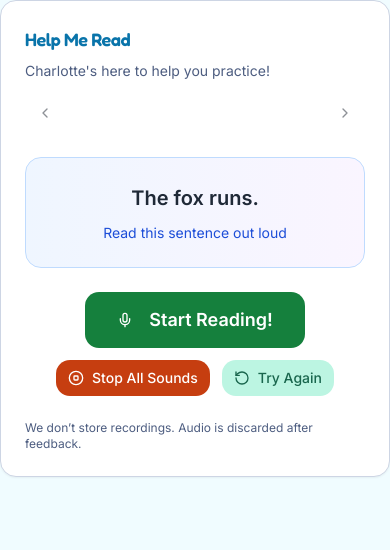
Test: read-aloud practice and the child's voice › a practice tap with no speech sends nothing and tells the child
Click the button "Start Reading!" at [195, 320], box [85,292,305,348]
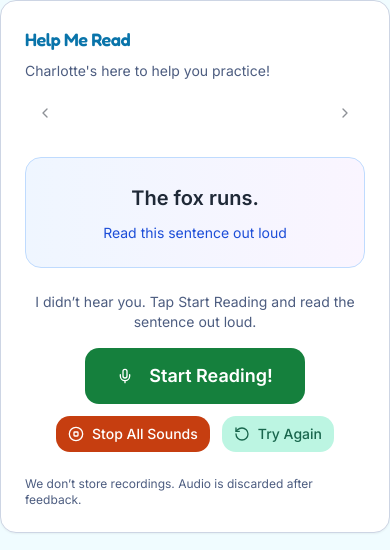
Check: the text with test id "coach-no-speech" is shown, box [25,292,365,332]
